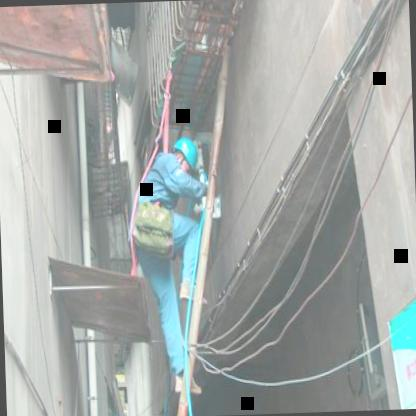helmet: (166, 135, 202, 175)
